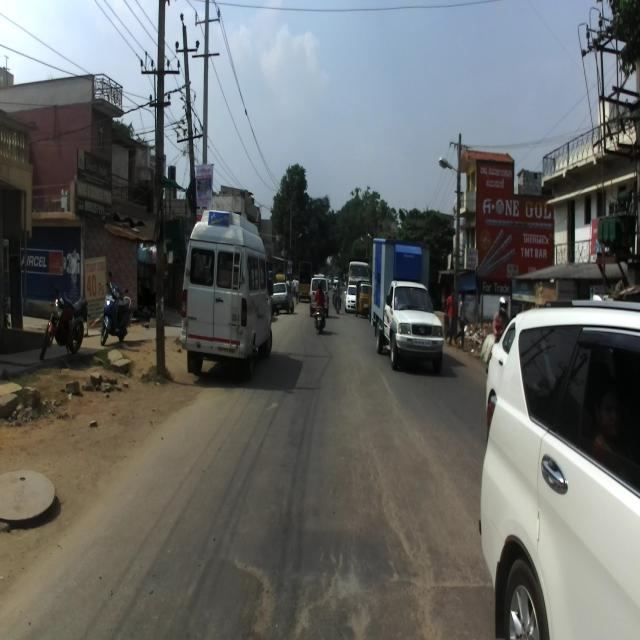Car_Maruti-Suzuki: (309, 274, 330, 317), (271, 281, 293, 314)
Car_Toyota: (478, 299, 639, 638)
mini-bus: (182, 208, 274, 378)
motorcycle_Yamaha: (39, 282, 90, 362)
scooter: (100, 270, 132, 346), (313, 292, 325, 335)
truck: (373, 236, 448, 384)
